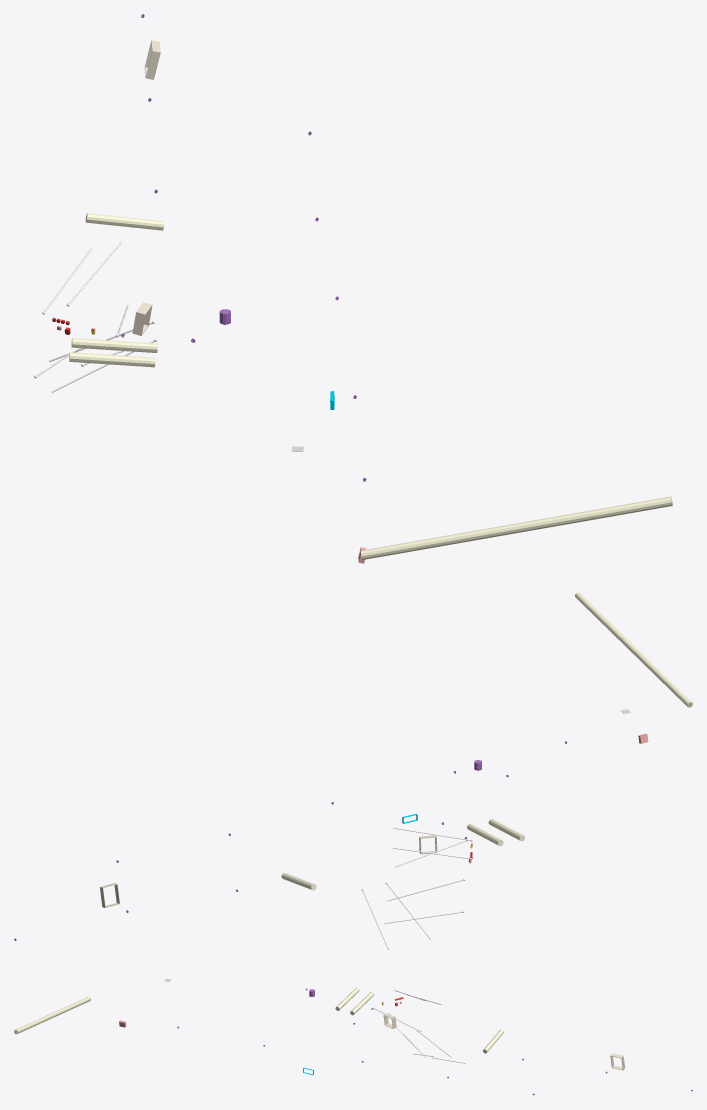
The model's file is tile_406.glb.
3 views of the same model, one above another, from view 1: azimuth 30°, elevation 25°; view 2: azimuth 150°, elevation 25°; view 3: azimuth 270°, elevation 25° (orthographic). The views are drawn at different scales.
Bounding box in the file's own units: 12.43 × 4.47 × 34.82.
